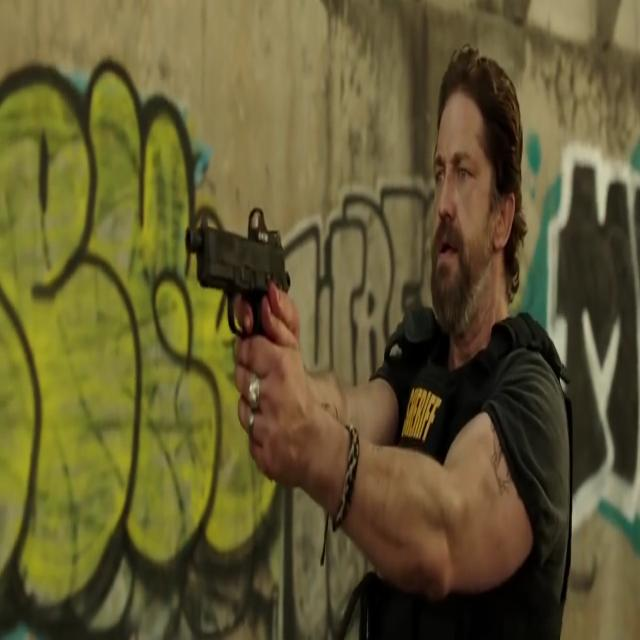Weapon: (187, 205, 295, 344)
